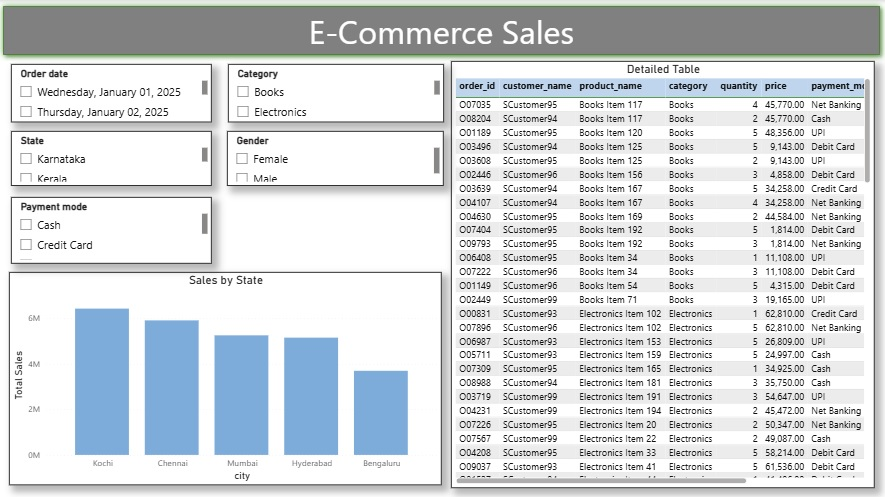

The page's visual inventory and layout, read from the dashboard file:
{"tool":"powerbi","page":{"name":"E-Commerce Sales 2","canvas":[1280,720],"ordinal":2},"visuals":[{"type":"shape","box":[0,0,1280.2,87.8],"z":0},{"type":"columnChart","title":"Sales by State","fields":{"Y":["ecommerce customers.Total Sales"],"Category":["ecommerce customers.city"]},"box":[16.8,391.4,623.2,307.4],"z":1000},{"type":"tableEx","title":"Detailed Table","fields":{"Values":["ecommerce orders.order_id","ecommerce customers.customer_name","ecommerce products.product_name","ecommerce products.category","ecommerce orders.quantity","ecommerce products.price","ecommerce orders.payment_mode","ecommerce orders.order_date.Variation.Date Hierarchy.Year","ecommerce orders.order_date.Variation.Date Hierarchy.Quarter","ecommerce orders.order_date.Variation.Date Hierarchy.Month","ecommerce orders.order_date.Variation.Date Hierarchy.Day"]},"box":[653.4,87.3,609.8,614.8],"z":2000},{"type":"slicer","fields":{"Values":["ecommerce orders.order_date"]},"box":[20.2,92.4,288.9,84],"z":3000},{"type":"slicer","fields":{"Values":["ecommerce products.category"]},"box":[332.6,92.4,310.8,84],"z":4000},{"type":"slicer","fields":{"Values":["ecommerce customers.state"]},"box":[20.2,188.1,288.9,79],"z":5000},{"type":"slicer","fields":{"Values":["ecommerce customers.gender"]},"box":[330.9,188.1,312.4,79],"z":6000},{"type":"slicer","fields":{"Values":["ecommerce orders.payment_mode"]},"box":[20.2,283.9,288.9,95.7],"z":7000}]}

Visuals, with their boxes in screenshot pixels (x1, y1, x2, y2), scaled from the page's 1280x720 canvas onto the 885x497 screenshot:
shape: (left=0, top=0, right=884, bottom=61)
"Sales by State" columnChart: (left=12, top=270, right=442, bottom=482)
"Detailed Table" tableEx: (left=452, top=60, right=873, bottom=485)
slicer - ecommerce orders.order_date: (left=14, top=64, right=214, bottom=122)
slicer - ecommerce products.category: (left=230, top=64, right=445, bottom=122)
slicer - ecommerce customers.state: (left=14, top=130, right=214, bottom=184)
slicer - ecommerce customers.gender: (left=229, top=130, right=445, bottom=184)
slicer - ecommerce orders.payment_mode: (left=14, top=196, right=214, bottom=262)
